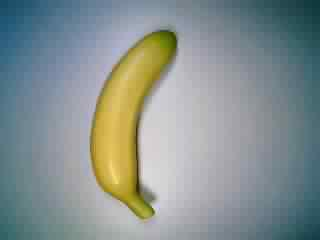banana: (85, 23, 181, 222)
